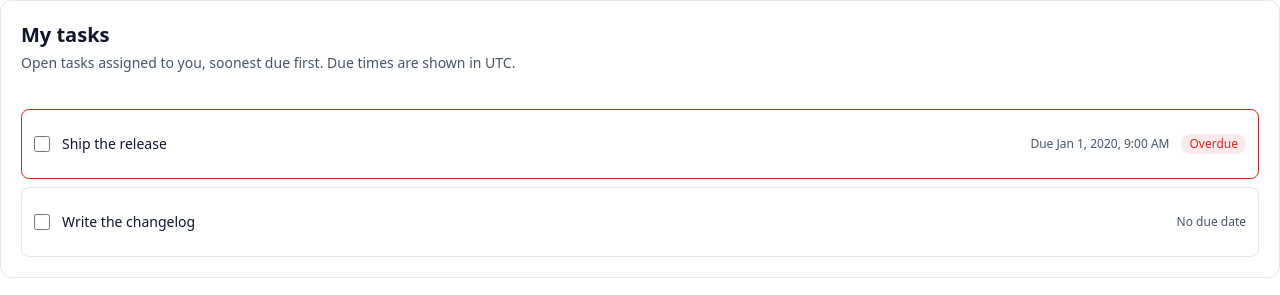
Test case: MyTasksWidget › reports a failed completion instead of claiming the task changed
Click the checkbox named "Complete Ship the release" next to "Ship the release" at (42, 144), box [34, 136, 50, 152]
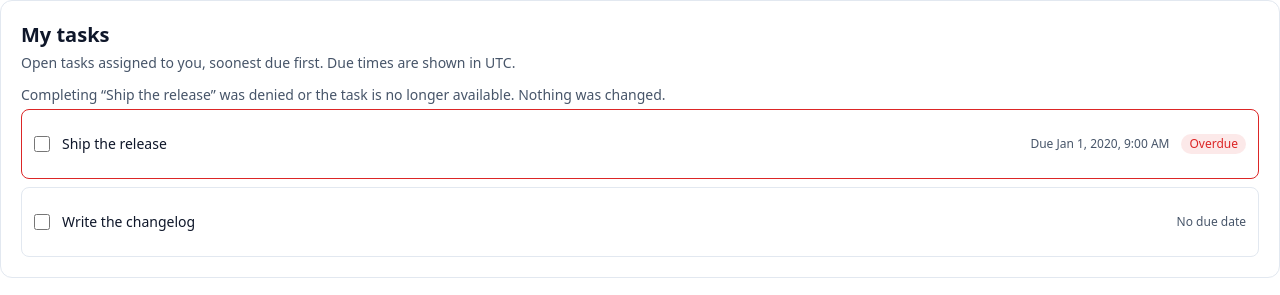
Expected: the text "was denied or the task is no longer available" is shown, [21, 85, 666, 104]
